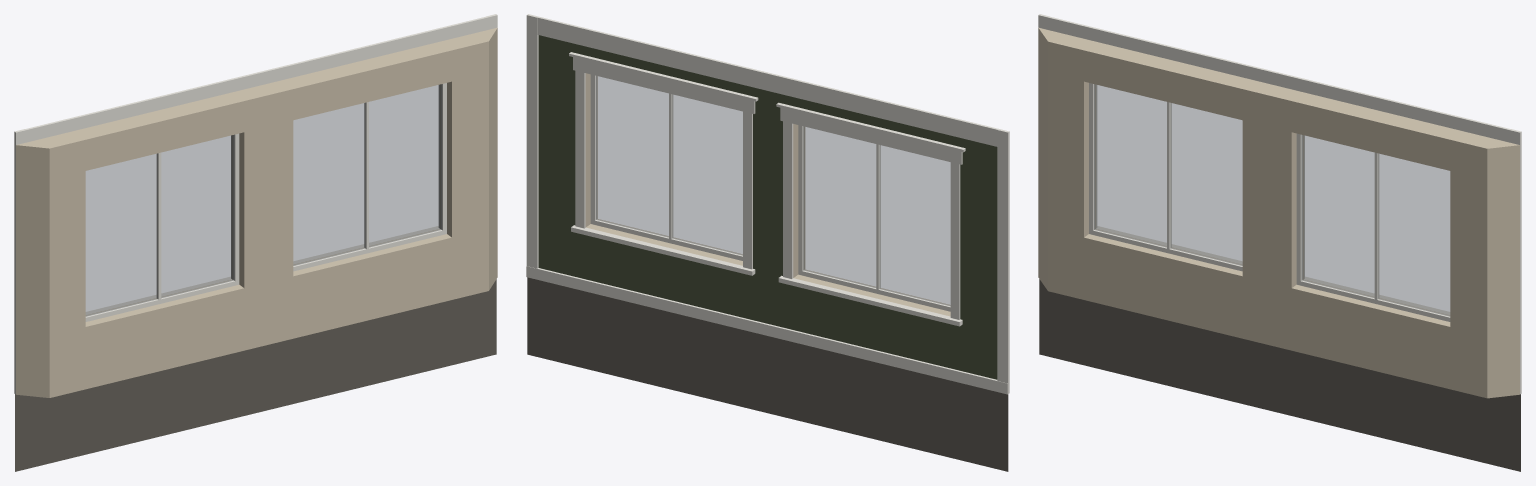
File: wall-01.glb
The picture shows the model from 3 angles, left to right: view 1: azimuth 30°, elevation 25°; view 2: azimuth 150°, elevation 25°; view 3: azimuth 330°, elevation 25°; orthographic projection.
Size of the model in its own units: 16.16 by 10.9 by 0.8929.
